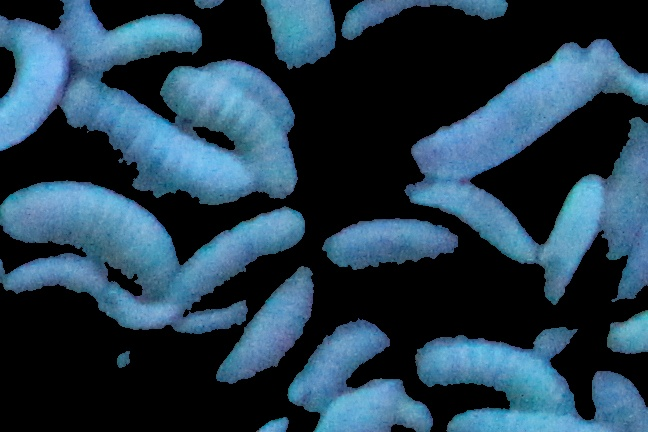larvae: (412, 35, 595, 175), (67, 81, 253, 202), (1, 180, 178, 290), (161, 65, 296, 196), (417, 335, 570, 415), (163, 207, 305, 290), (214, 269, 314, 382), (409, 180, 542, 259), (288, 319, 388, 411), (1, 15, 65, 154), (538, 173, 605, 301), (321, 214, 458, 271), (340, 1, 511, 45), (603, 113, 648, 261), (82, 14, 203, 67), (251, 1, 339, 72), (209, 59, 294, 130), (4, 254, 108, 297), (102, 281, 182, 333)
